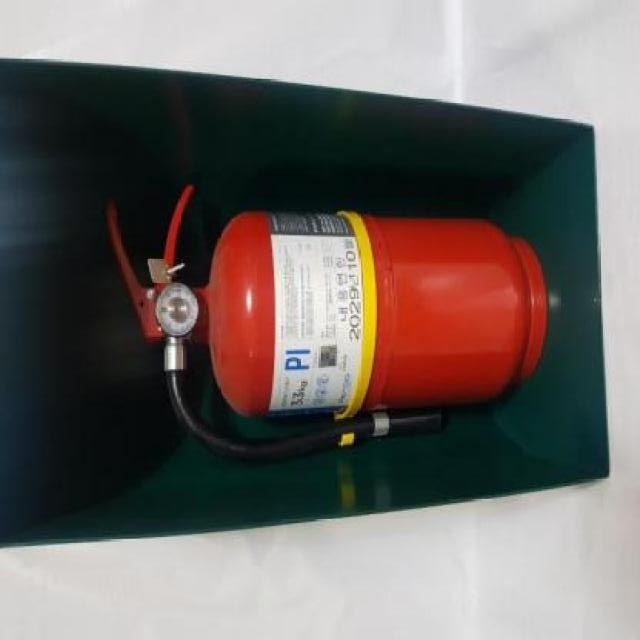fire extinguisher: (107, 184, 547, 470)
